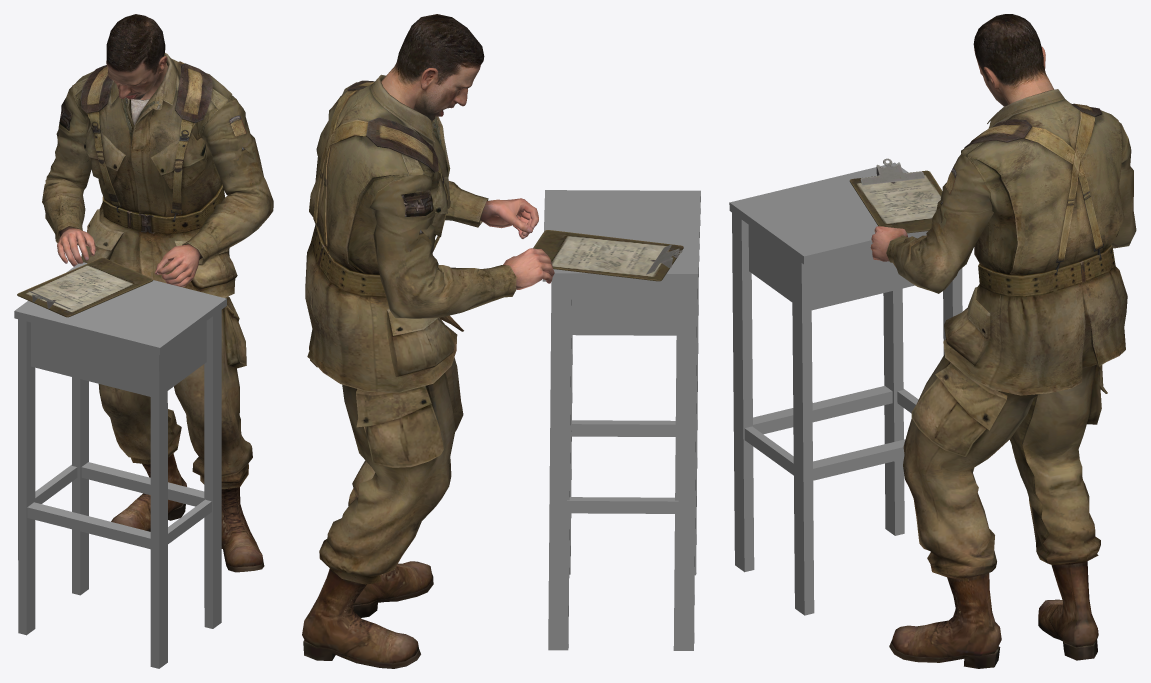
The model's file is manwithtable.obj.
3 views of the same model, side by side, from view 1: azimuth 30°, elevation 25°; view 2: azimuth 150°, elevation 25°; view 3: azimuth 270°, elevation 25° (orthographic). The views are drawn at different scales.
Parts seen in each view (by area): view 1: DrawCall_0052, DrawCall_0043, DrawCall_0055, DrawCall_0045, DrawCall_0051; view 2: DrawCall_0052, DrawCall_0043, DrawCall_0055, DrawCall_0045, DrawCall_0051; view 3: DrawCall_0052, DrawCall_0043, DrawCall_0055, DrawCall_0045, DrawCall_0051.
Boxes of the visible parts, x1,y1,x2,y2 form: DrawCall_0052: (42,53,273,572); DrawCall_0043: (14,262,226,668); DrawCall_0055: (106,14,167,99); DrawCall_0045: (17,257,153,317); DrawCall_0051: (57,226,202,287); DrawCall_0052: (302,74,516,668); DrawCall_0043: (542,190,700,650); DrawCall_0055: (381,14,484,120); DrawCall_0045: (533,230,683,281); DrawCall_0051: (480,198,554,289); DrawCall_0052: (886,89,1136,668); DrawCall_0043: (729,162,962,615); DrawCall_0055: (973,14,1054,106); DrawCall_0045: (849,158,942,233); DrawCall_0051: (870,226,907,261).
Bounding box in the file's own units: 98.48 × 182 × 112.
6 materials, 5 textured.
